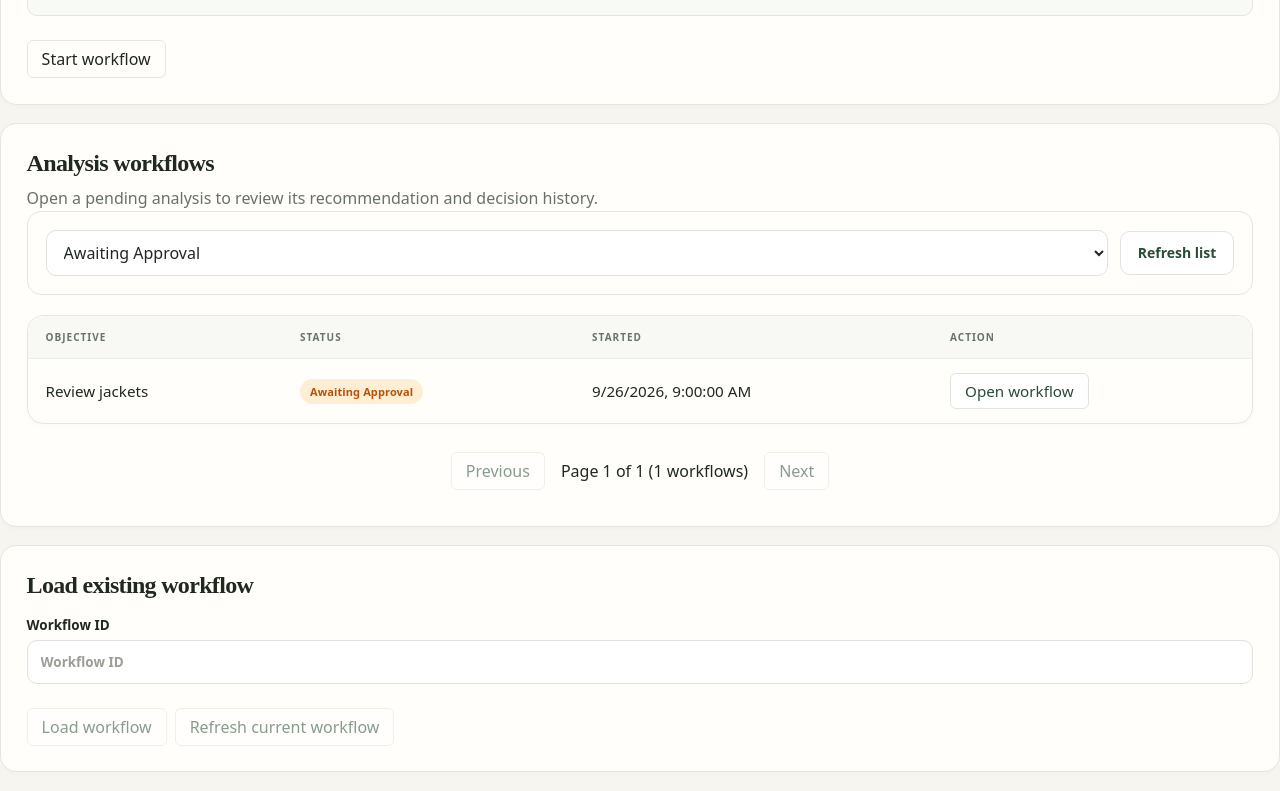
Test: opens a workflow from the pending approval queue
(page scrolled)
Click the button "Open workflow".
click(1019, 391)  # box [950, 373, 1089, 409]
(page scrolled)
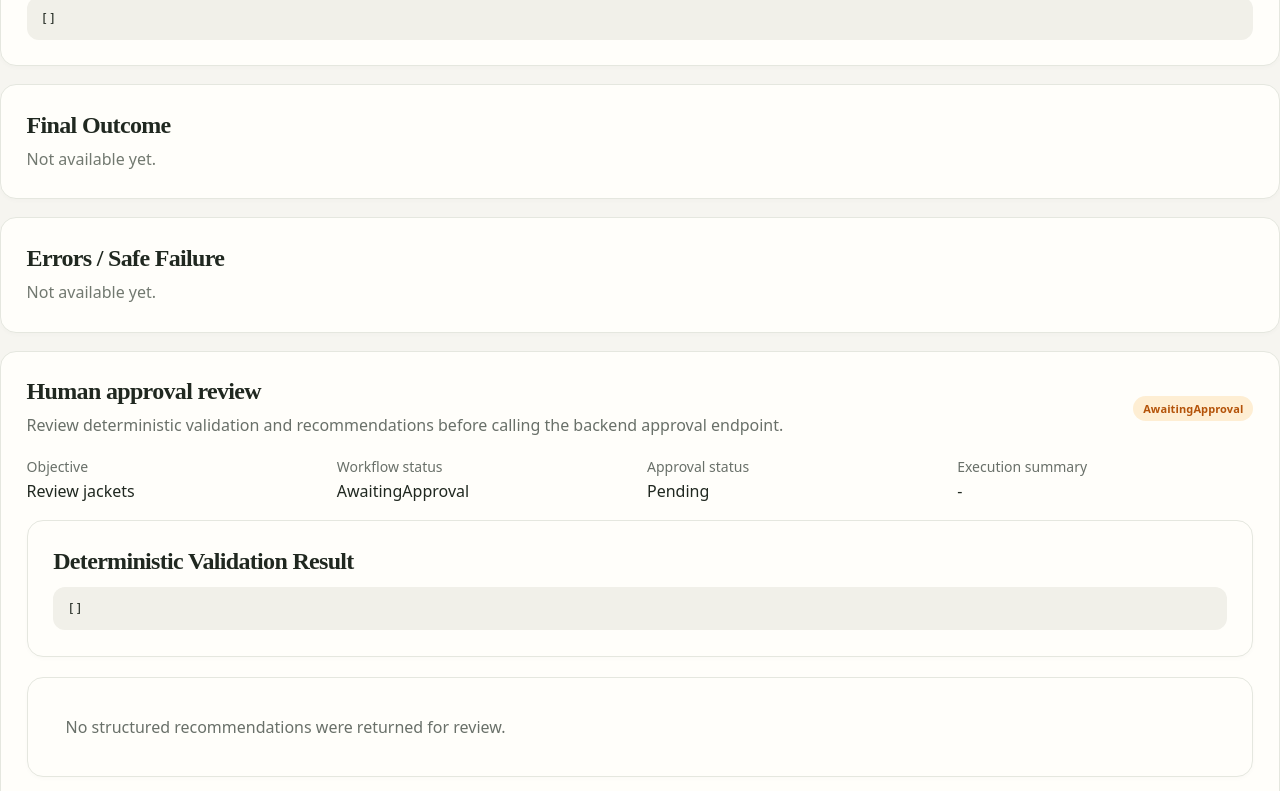
Now the heading "Human approval review" is shown, box [27, 378, 261, 404]
